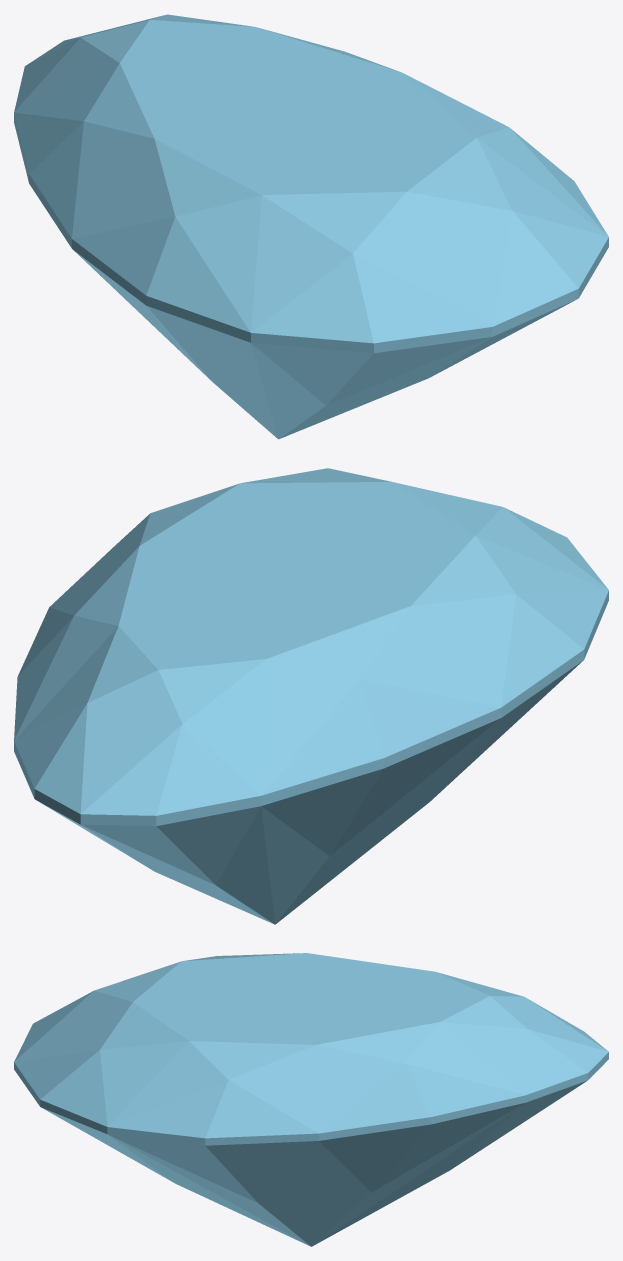
The model's file is stone-topaz.glb.
3 renders of one model, top to bottom at view 1: azimuth 30°, elevation 25°; view 2: azimuth 150°, elevation 25°; view 3: azimuth 270°, elevation 25°, orthographic. The views are drawn at different scales.
Visible parts, largest first — view 1: Gemstone Topaz; view 2: Gemstone Topaz; view 3: Gemstone Topaz.
Part boxes in pixels (x1,y1,x2,y2): Gemstone Topaz: [14, 14, 608, 439]; Gemstone Topaz: [14, 468, 608, 924]; Gemstone Topaz: [14, 953, 608, 1246].
Bounding box in the file's own units: 1.62 × 1.18 × 2.56.
